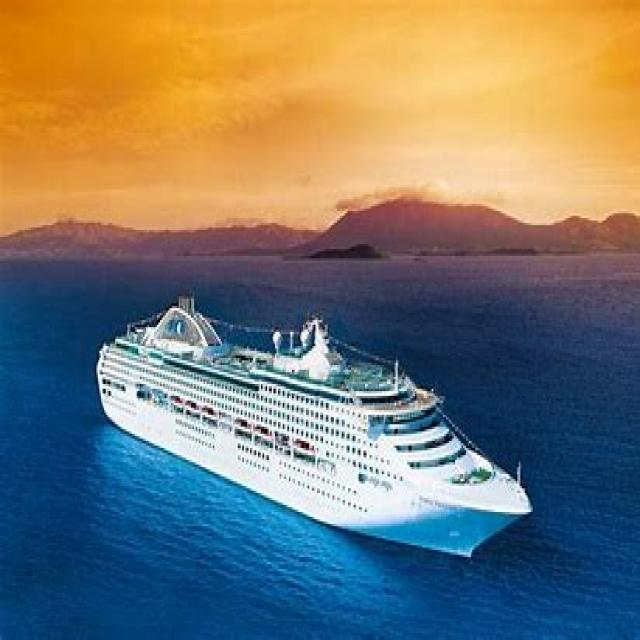PassengerShip: (91, 233, 548, 615)
